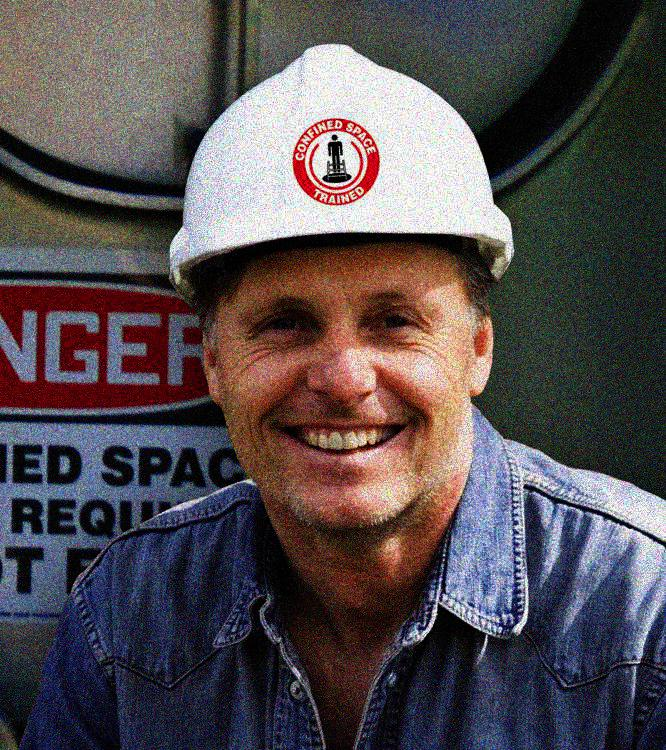helmet: (165, 41, 517, 533)
